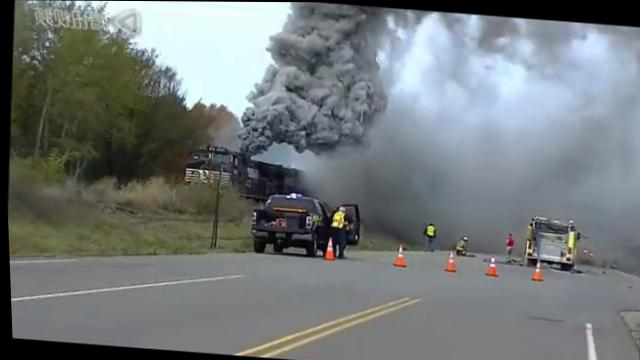smoke: (281, 2, 391, 67), (303, 66, 388, 149), (243, 60, 307, 150)
